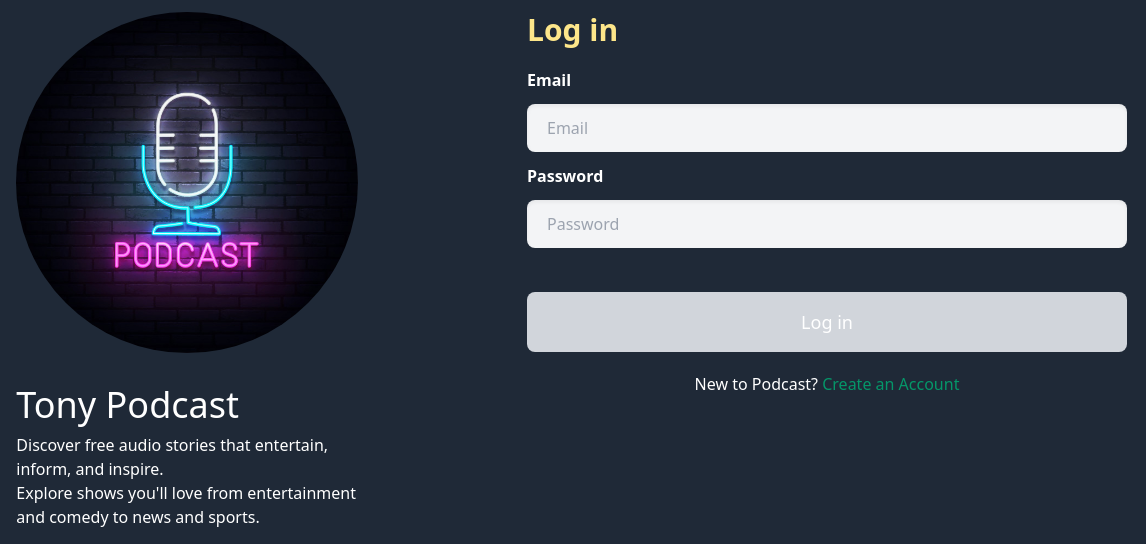
Test: <Login /> › displays email validataion errors
In the field with placeholder "Email": {"x": 827, "y": 128} [527,104,1127,152], type "this@wont"
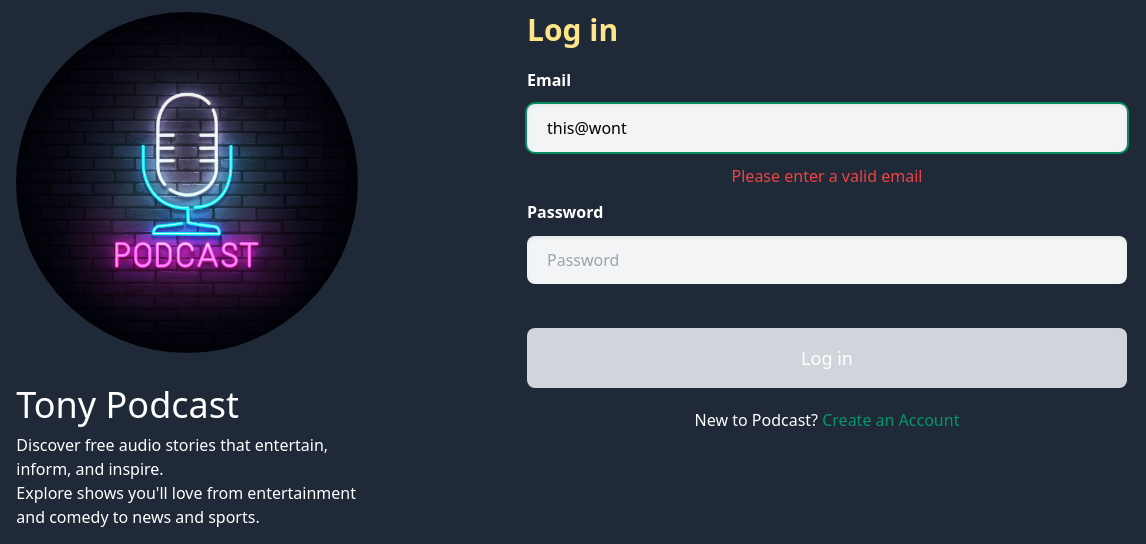
Expected: the message reads "Please enter a valid email", [732,165,922,187]
Clear the field with placeholder "Email": {"x": 827, "y": 128} [527,104,1127,152]
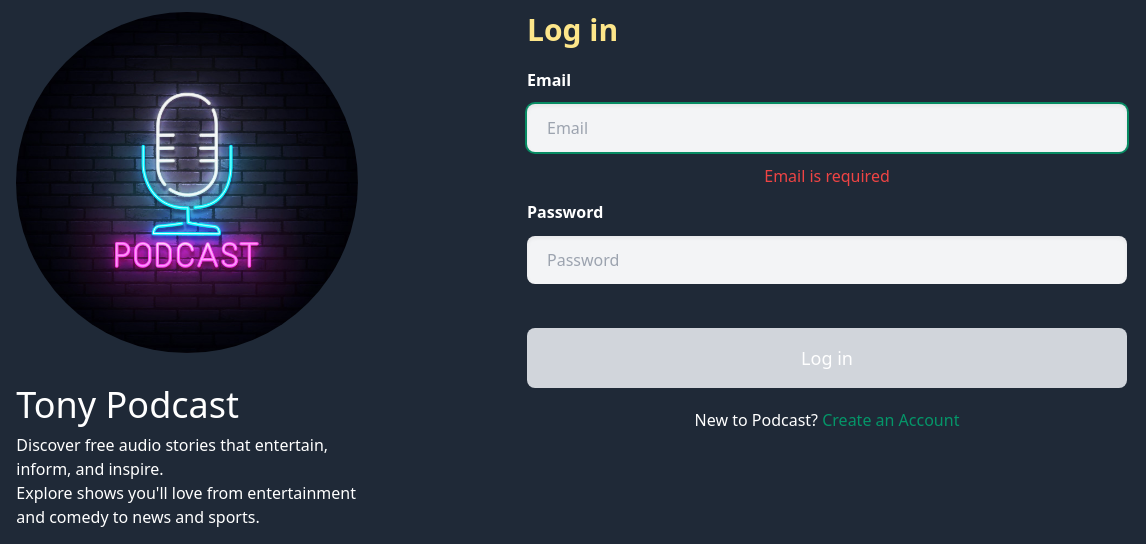
Expected: the message reads "Email is required", [764,165,890,187]
